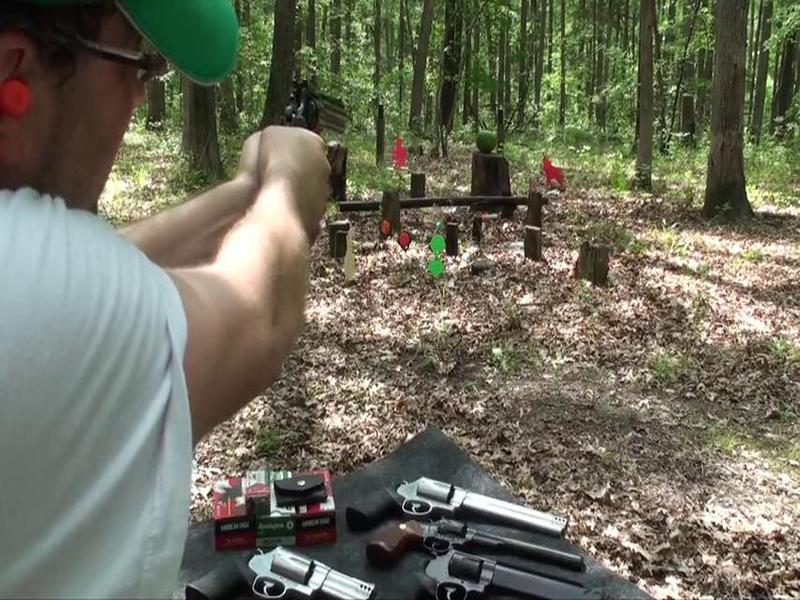Revolver: (271, 64, 369, 168)
